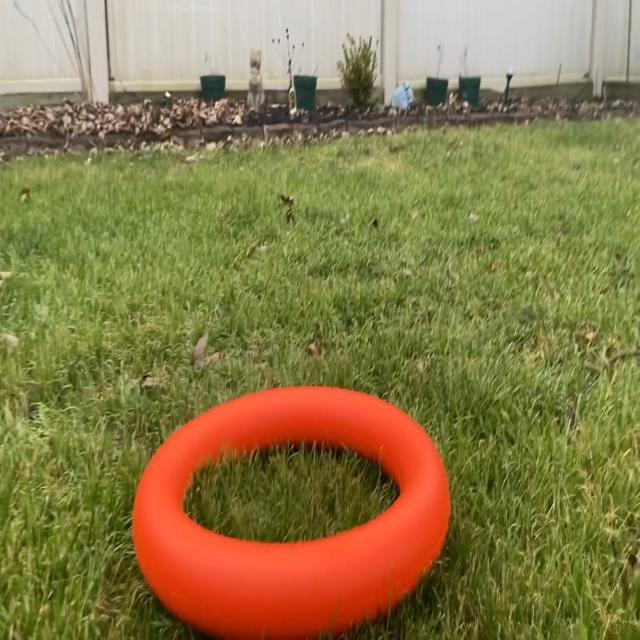note: (129, 380, 453, 640)
